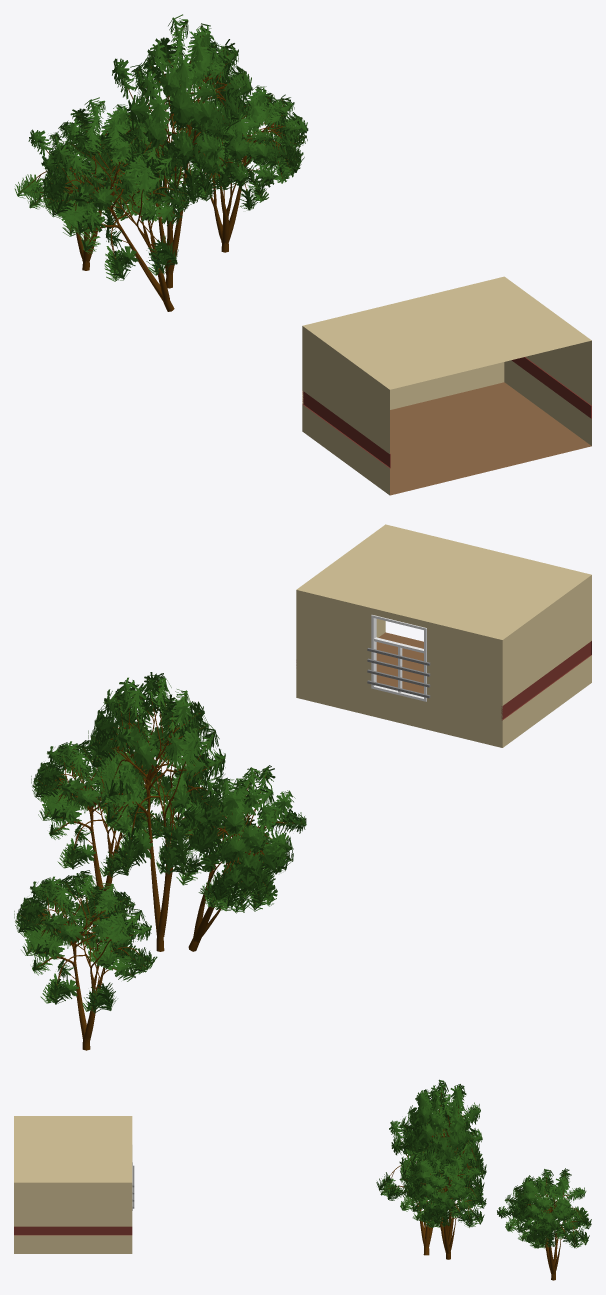
3 views of the same model, one above another, from view 1: azimuth 30°, elevation 25°; view 2: azimuth 150°, elevation 25°; view 3: azimuth 270°, elevation 25° (orthographic). The views are drawn at different scales.
Parts seen in each view (by area): view 1: Cube.014, leaves, leaves.002, leaves.001, leaves.003, tree.002, tree, tree.001; view 2: Cube.014, leaves, leaves.002, leaves.003, leaves.001, tree, Cube.001, tree.003, tree.001, tree.002; view 3: Cube.014, leaves, leaves.003, leaves.001, leaves.002, tree.003, tree.001, tree.002, tree.
Part boxes in pixels (x1,y1,x2,y2): Cube.014: (302,276,591,495); leaves: (110,14,252,205); leaves.002: (39,121,190,281); leaves.001: (167,85,308,210); leaves.003: (14,97,161,228); tree.002: (44,128,186,311); tree: (123,22,249,288); tree.001: (176,88,304,252); Cube.014: (296,524,591,747); leaves: (88,672,225,874); leaves.002: (158,765,306,913); leaves.003: (14,870,157,1013); leaves.001: (31,740,169,877); tree: (91,678,223,951); Cube.001: (367,615,430,701); tree.003: (17,875,149,1050); tree.001: (34,748,166,890); tree.002: (183,769,301,951); Cube.014: (14,1116,132,1253); leaves: (391,1079,486,1199); leaves.003: (497,1168,591,1248); leaves.001: (391,1149,486,1227); leaves.002: (376,1107,482,1200); tree.003: (507,1174,584,1280); tree.001: (405,1154,477,1259); tree.002: (384,1123,474,1255); tree: (405,1087,483,1255).
Bounding box in the file's own units: 998 × 1133 × 2933.
